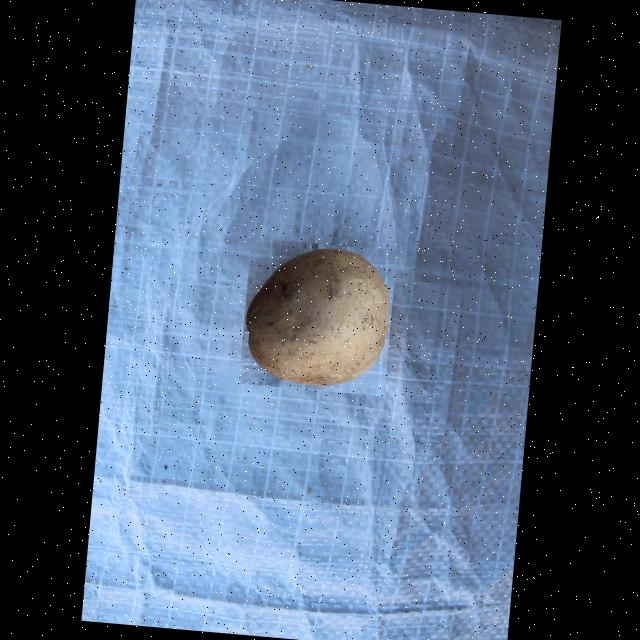Diseased-fungal potato: (238, 238, 396, 396)
